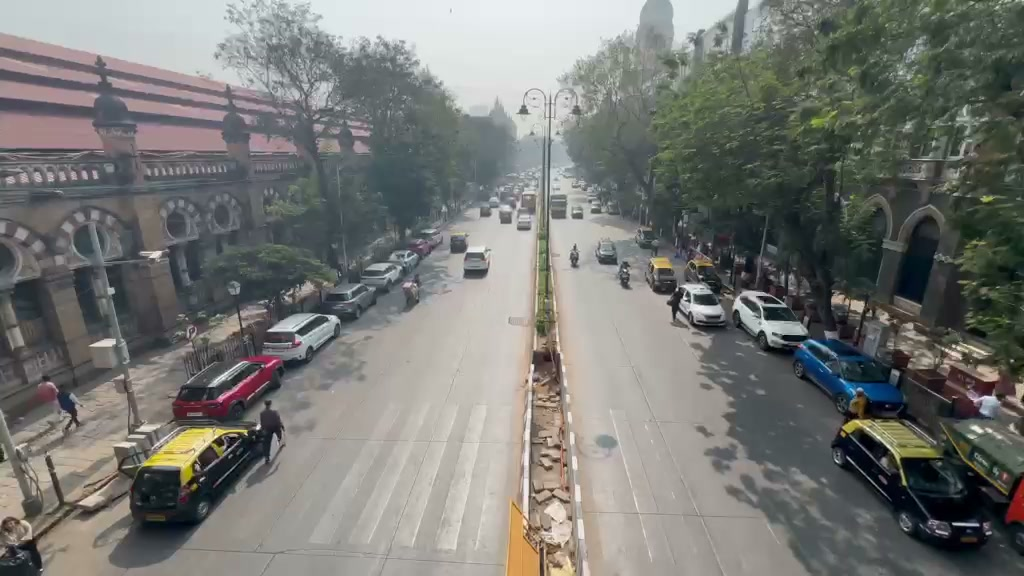car: (830, 416, 995, 550), (126, 424, 268, 525), (791, 335, 908, 419), (936, 416, 1024, 504), (171, 354, 284, 422), (732, 291, 810, 351), (262, 311, 341, 367), (673, 283, 727, 329), (319, 280, 377, 321), (360, 262, 404, 293), (387, 249, 421, 274), (406, 230, 439, 255), (463, 249, 491, 278), (596, 241, 619, 265), (514, 210, 535, 231), (448, 233, 470, 253), (498, 206, 514, 225)
pedestrian: (0, 515, 43, 573), (257, 399, 285, 465), (57, 388, 82, 431)
truck: (645, 255, 679, 294)
